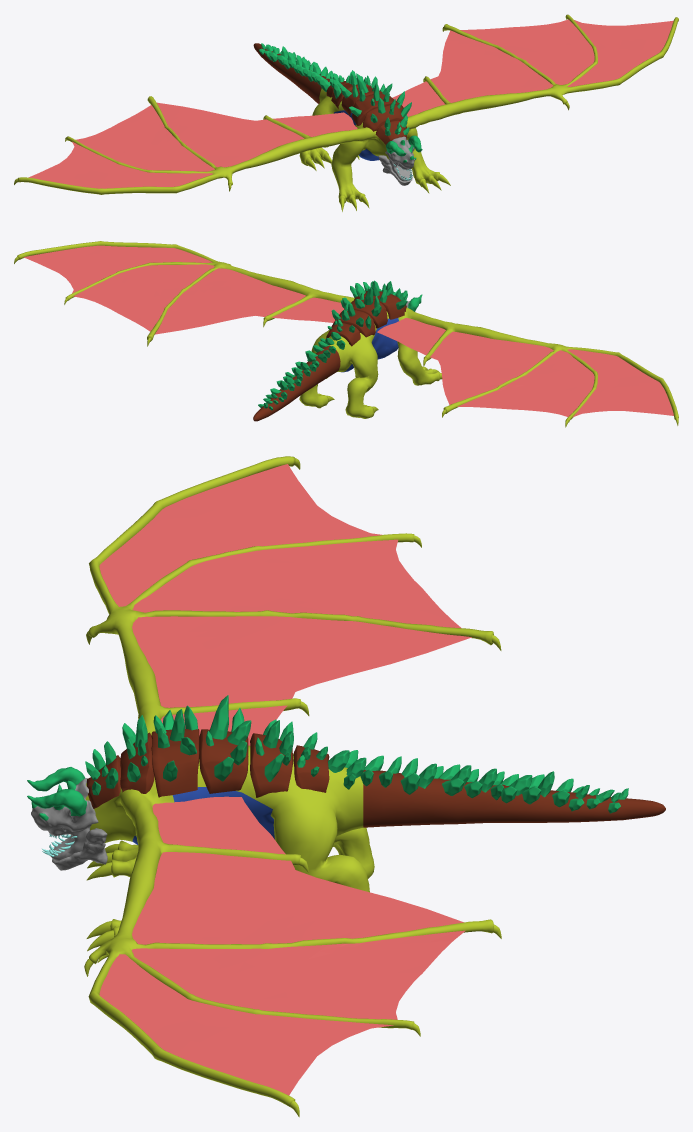
Rendered from SM_Creature.FBX.
3 views of the same model, one above another, from view 1: azimuth 30°, elevation 25°; view 2: azimuth 150°, elevation 25°; view 3: azimuth 270°, elevation 25° (orthographic). The views are drawn at different scales.
Parts seen in each view (by area): view 1: SM_Creature; view 2: SM_Creature; view 3: SM_Creature.
Boxes of the visible parts, x1,y1,x2,y2 form: SM_Creature: [14, 14, 678, 211]; SM_Creature: [14, 241, 678, 427]; SM_Creature: [27, 456, 665, 1117].
Bounding box in the file's own units: 15563 × 2328 × 6492.
